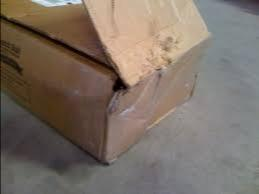damage_box: (0, 0, 211, 165)
